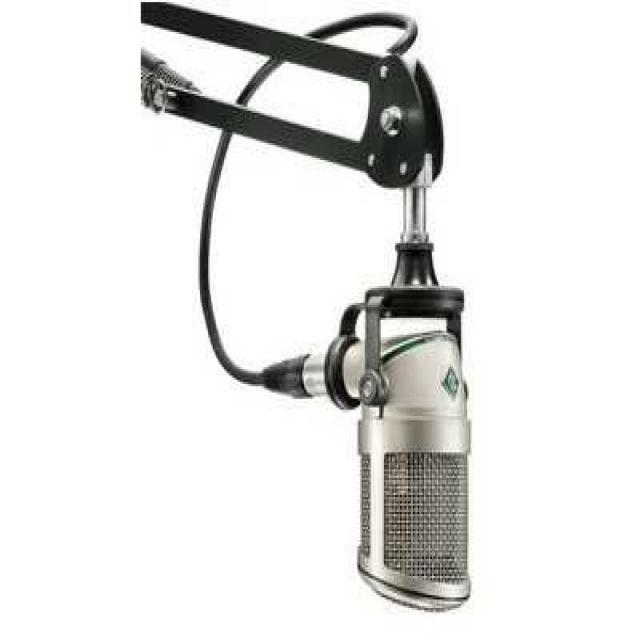microphone: (346, 164, 472, 620)
